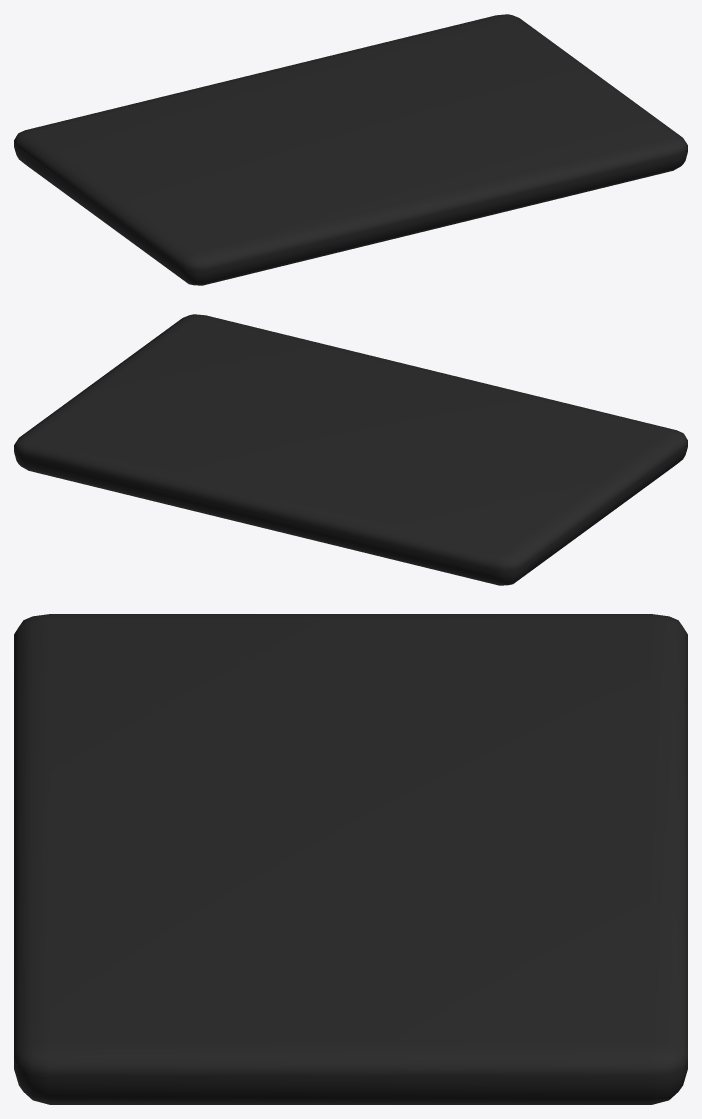
Rendered from laptop_01.fbx.
3 views of the same model, one above another, from view 1: azimuth 30°, elevation 25°; view 2: azimuth 150°, elevation 25°; view 3: azimuth 270°, elevation 25° (orthographic). The views are drawn at different scales.
Visible parts, largest first — view 1: laptop_01.screen, laptop_01; view 2: laptop_01.screen, laptop_01; view 3: laptop_01.screen, laptop_01.
Part boxes in pixels (x1,y1,x2,y2): laptop_01.screen: (14,14,687,270); laptop_01: (14,143,687,285); laptop_01.screen: (14,314,687,570); laptop_01: (14,443,687,585); laptop_01.screen: (14,614,687,1075); laptop_01: (14,1061,687,1104).
Size of the model in its own units: 134 by 8.15 by 84.08.
